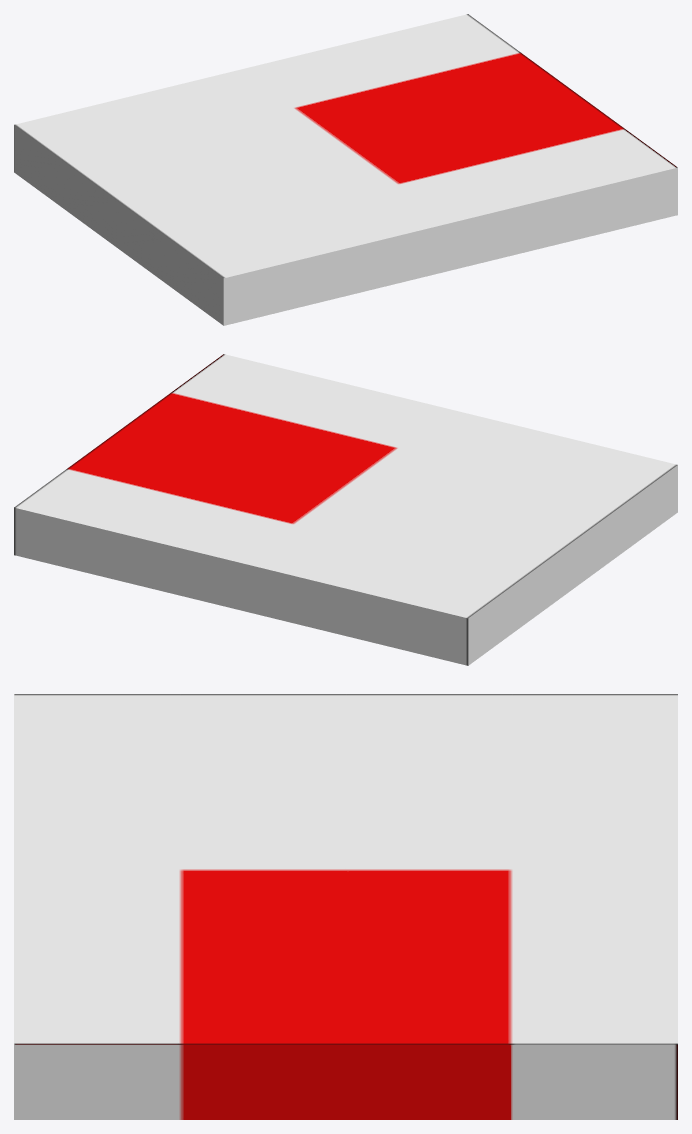
Rendered from Claymore.fbx.
3 views of the same model, one above another, from view 1: azimuth 30°, elevation 25°; view 2: azimuth 150°, elevation 25°; view 3: azimuth 270°, elevation 25° (orthographic). The views are drawn at different scales.
Parts seen in each view (by area): view 1: pCube1; view 2: pCube1; view 3: pCube1.
Part boxes in pixels (x1,y1,x2,y2): pCube1: (14,14,677,325); pCube1: (14,354,677,665); pCube1: (14,694,677,1119).
Size of the model in its own units: 1.25 by 0.125 by 1.
Materials: 1 (1 with a texture image).
